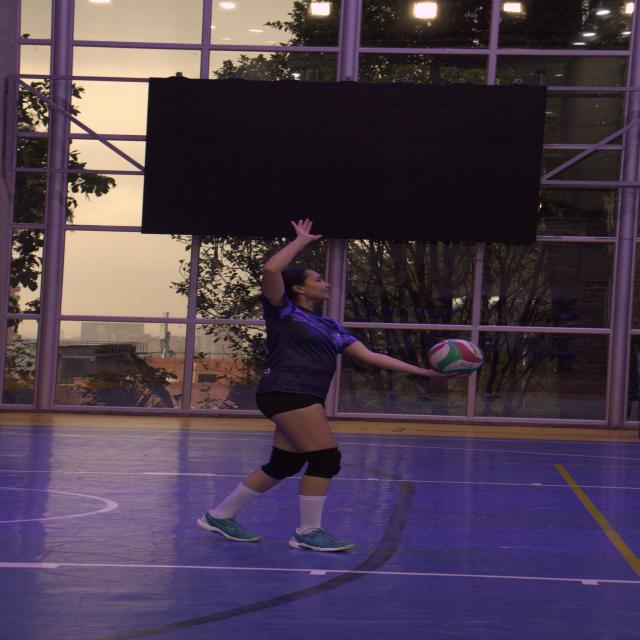volleyball: (426, 339, 485, 377)
